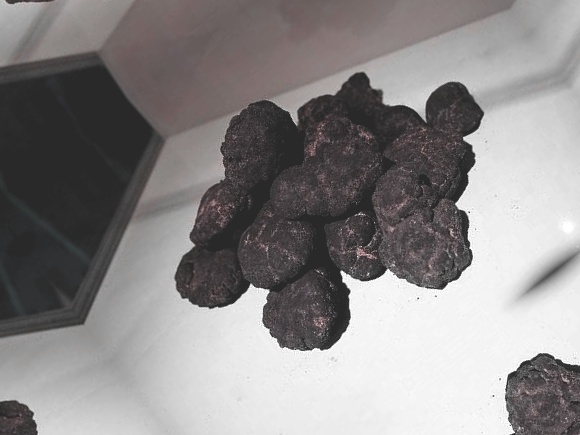halobolite: (365, 109, 469, 245), (204, 87, 315, 201), (255, 130, 384, 227), (154, 234, 263, 321), (375, 193, 463, 286), (266, 271, 354, 359), (173, 174, 273, 247), (410, 78, 491, 160), (231, 210, 316, 287)
